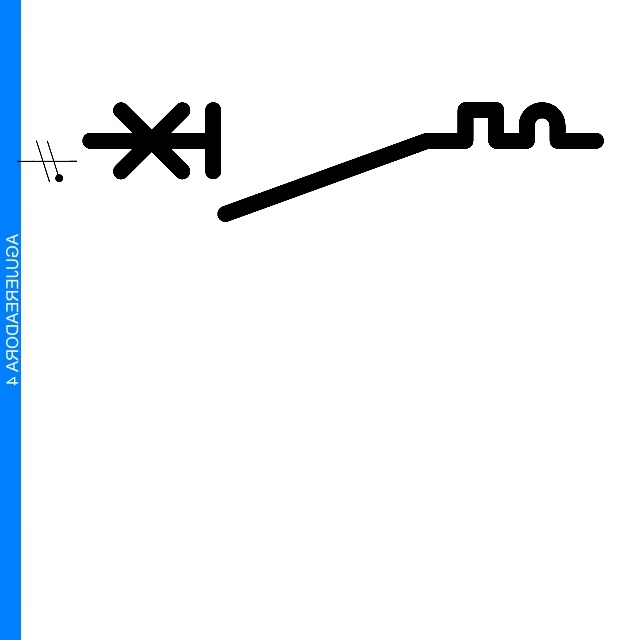interruptor_termomagnetico: (77, 97, 609, 227)
